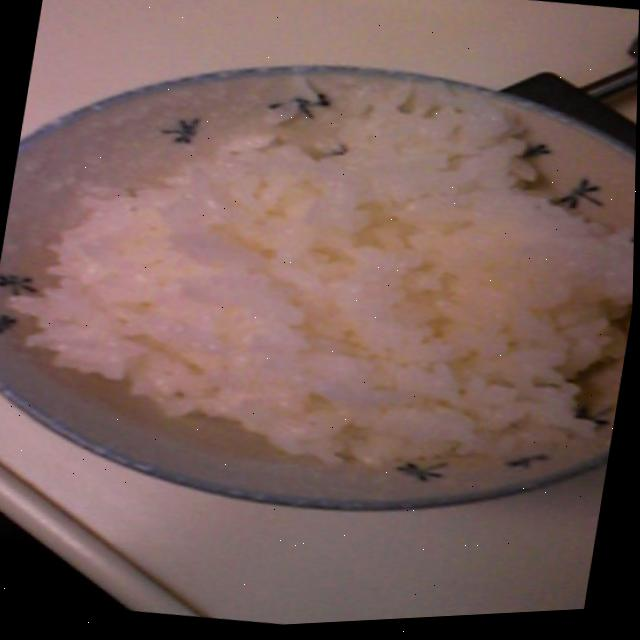米饭主食: (137, 0, 640, 409)
